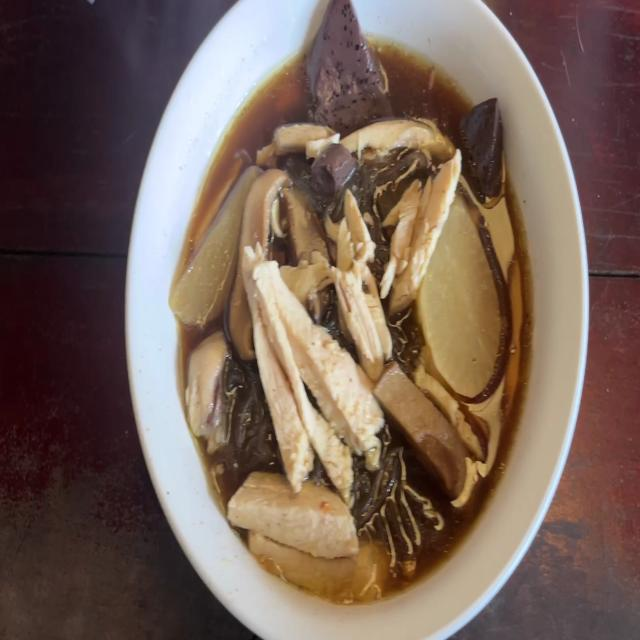noodle: (302, 0, 385, 126), (466, 99, 511, 198), (311, 141, 348, 195)
